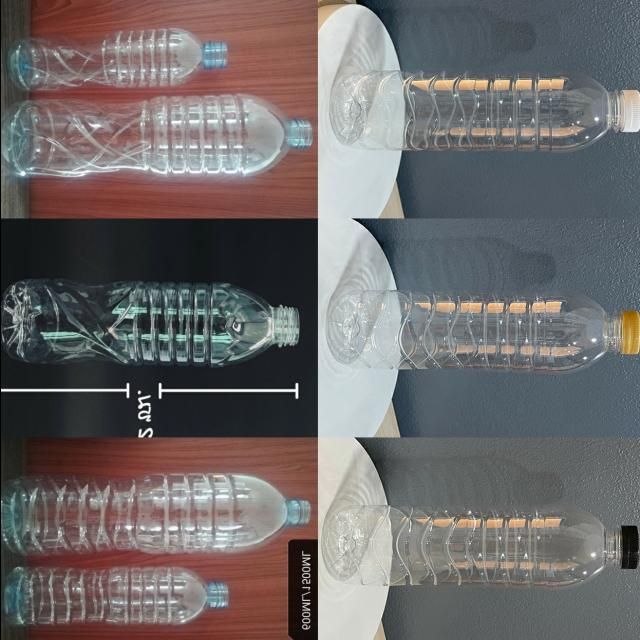plastik: (0, 279, 299, 366), (0, 94, 312, 177), (322, 505, 637, 587), (326, 291, 638, 373), (330, 70, 640, 152), (0, 473, 310, 555), (6, 28, 227, 91), (3, 567, 228, 626)
